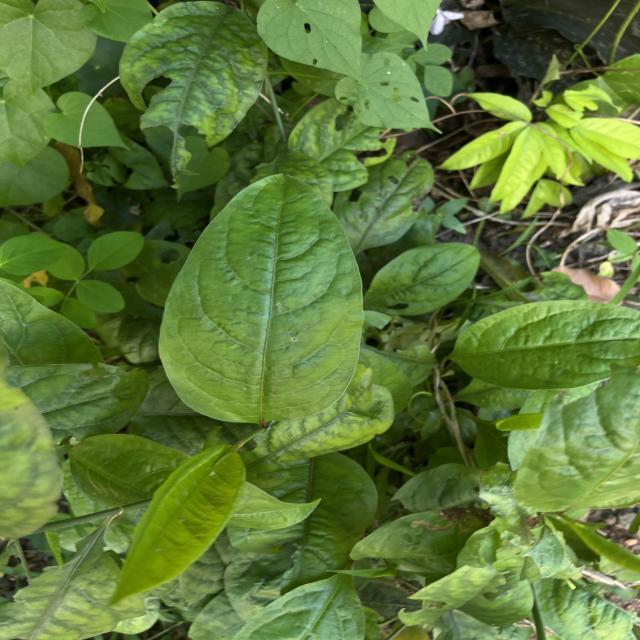Plumbago indica: (152, 170, 368, 429), (102, 445, 251, 615), (116, 1, 274, 158), (455, 291, 640, 391)
